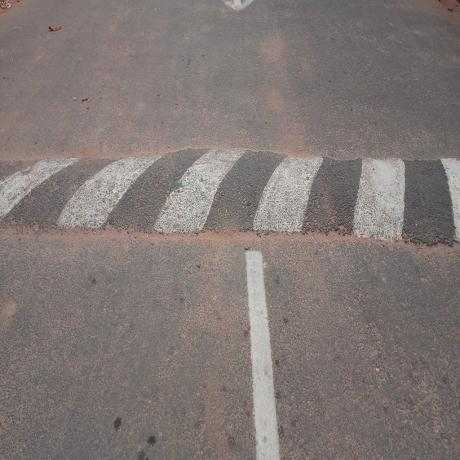Speed Bump: (0, 151, 459, 249)
